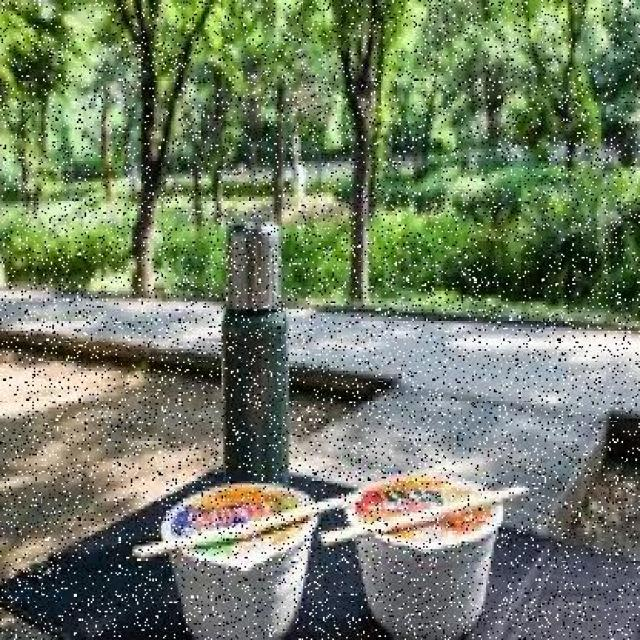Miscellaneous: (337, 469, 508, 640), (152, 480, 322, 640)
